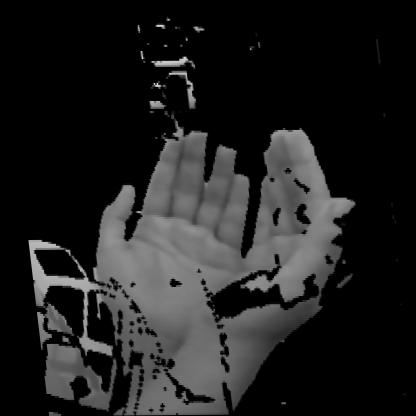dua: (47, 86, 359, 414)
